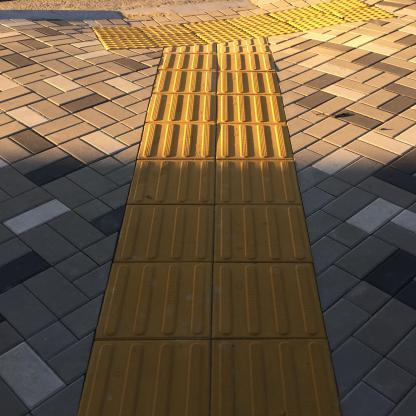podotacti: (75, 0, 414, 415)
